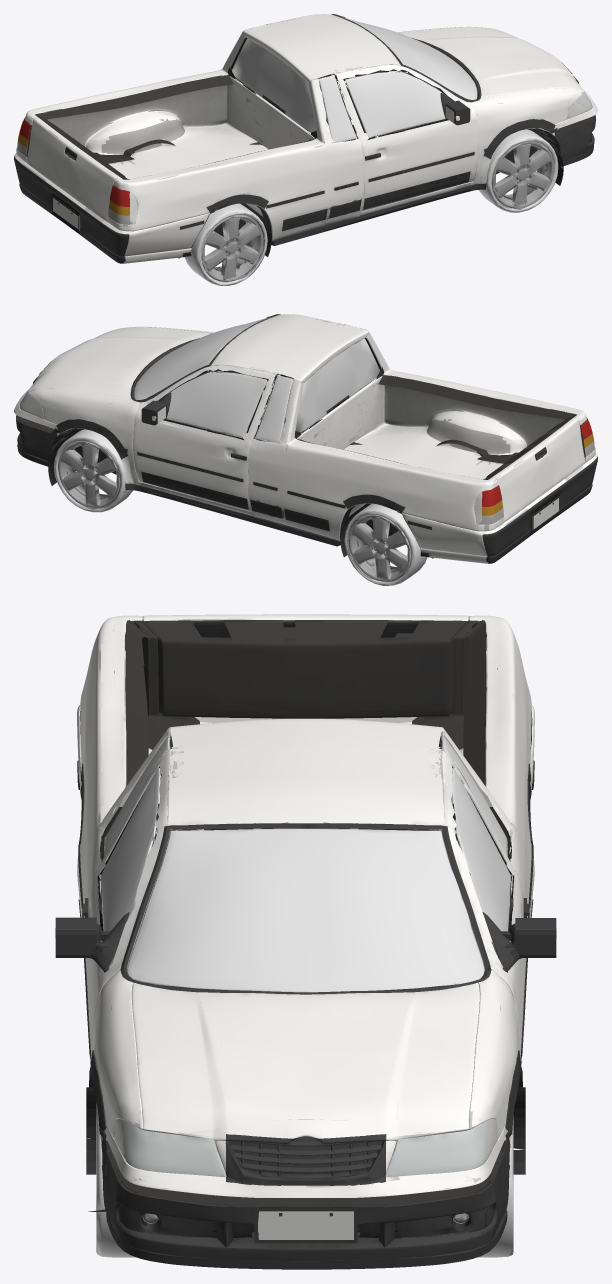
Rendered from tropeiro.glb.
3 views of the same model, one above another, from view 1: azimuth 30°, elevation 25°; view 2: azimuth 150°, elevation 25°; view 3: azimuth 270°, elevation 25° (orthographic). The views are drawn at different scales.
Parts seen in each view (by area): view 1: body, fender_rear_right, door_fr, hood, glass_door_fr, trunk, glass_rear, wheel_rr_rim, wheel_fr_rim, glass_windshield, fender_front_right, bumper_rear (+8 smaller); view 2: body, fender_rear_left, door_fl, hood, glass_door_fl, trunk, glass_rear, wheel_rl_rim, wheel_fl_rim, glass_windshield, fender_front_left, bumper_rear (+8 smaller); view 3: body, hood, glass_windshield, bumper_front, fender_rear_left, fender_rear_right, glass_door_fr, door_fl, glass_door_fl, door_fr, grille, headlight_left (+9 smaller).
Part boxes in pixels (left/top/right/bottom): body: left=14, top=14, right=597, bottom=263; fender_rear_right: left=114, top=131, right=328, bottom=256; door_fr: left=333, top=65, right=478, bottom=211; hood: left=397, top=26, right=583, bottom=118; glass_door_fr: left=319, top=72, right=445, bottom=142; trunk: left=26, top=117, right=119, bottom=222; glass_rear: left=232, top=38, right=316, bottom=132; wheel_rr_rim: left=202, top=215, right=265, bottom=282; wheel_fr_rim: left=491, top=141, right=554, bottom=209; glass_windshield: left=342, top=17, right=477, bottom=99; fender_front_right: left=471, top=99, right=569, bottom=185; bumper_rear: left=14, top=156, right=129, bottom=263; body: left=14, top=314, right=597, bottom=563; fender_rear_left: left=283, top=431, right=497, bottom=556; door_fl: left=133, top=365, right=278, bottom=511; hood: left=28, top=326, right=214, bottom=418; glass_door_fl: left=166, top=372, right=292, bottom=442; trunk: left=492, top=417, right=585, bottom=522; glass_rear: left=295, top=337, right=379, bottom=432; wheel_rl_rim: left=347, top=515, right=410, bottom=581; wheel_fl_rim: left=58, top=441, right=120, bottom=509; glass_windshield: left=134, top=317, right=269, bottom=399; fender_front_left: left=42, top=399, right=140, bottom=485; bumper_rear: left=482, top=456, right=597, bottom=563; body: left=55, top=616, right=556, bottom=1247; hood: left=98, top=968, right=513, bottom=1133; glass_windshield: left=127, top=828, right=484, bottom=992; bumper_front: left=101, top=1138, right=510, bottom=1269; fender_rear_left: left=424, top=615, right=534, bottom=917; fender_rear_right: left=77, top=615, right=187, bottom=917; glass_door_fr: left=101, top=736, right=170, bottom=968; door_fl: left=438, top=747, right=529, bottom=1064; glass_door_fl: left=441, top=735, right=510, bottom=947; door_fr: left=82, top=747, right=172, bottom=1063; grille: left=226, top=1136, right=385, bottom=1185; headlight_left: left=386, top=1119, right=490, bottom=1177.
Size of the model in its own units: 4.38 by 1.42 by 1.88.
12 materials, 8 textured.
